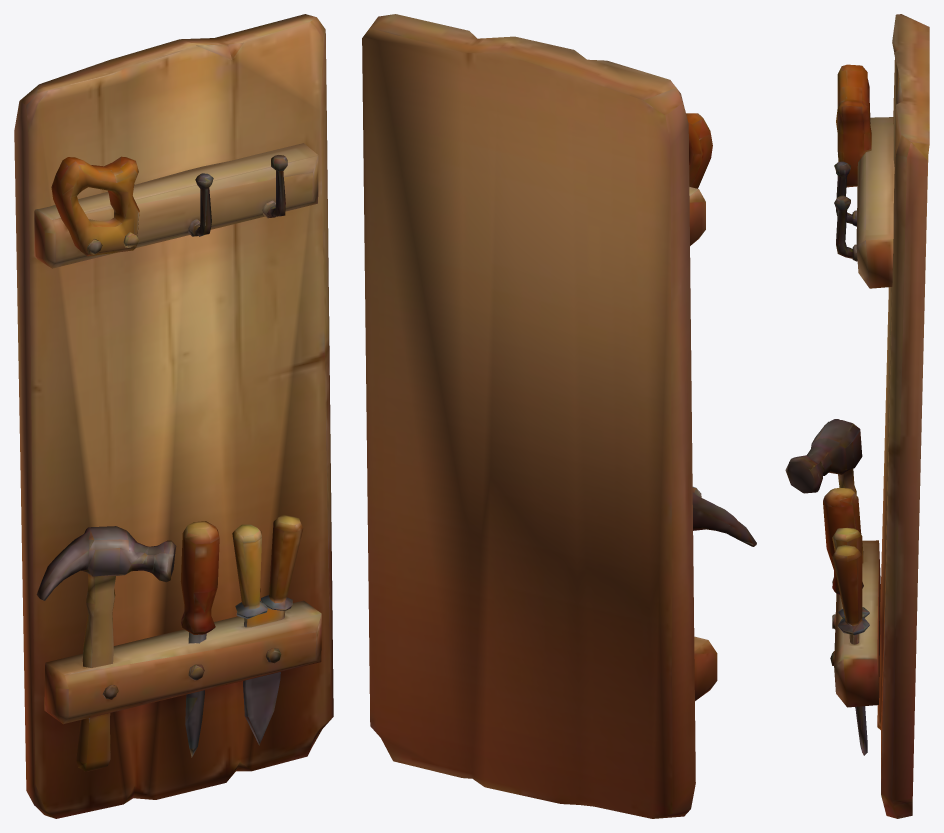
The model's file is wyn_furn_tool_rack.glb.
3 views of the same model, side by side, from view 1: azimuth 30°, elevation 25°; view 2: azimuth 150°, elevation 25°; view 3: azimuth 270°, elevation 25° (orthographic). The views are drawn at different scales.
Visible parts, largest first — view 1: tripo_node_11494d8c-9296-4774-b6ea-6039ffd05cb4; view 2: tripo_node_11494d8c-9296-4774-b6ea-6039ffd05cb4; view 3: tripo_node_11494d8c-9296-4774-b6ea-6039ffd05cb4.
Part boxes in pixels (left/top/right/bottom): tripo_node_11494d8c-9296-4774-b6ea-6039ffd05cb4: left=14, top=14, right=333, bottom=818; tripo_node_11494d8c-9296-4774-b6ea-6039ffd05cb4: left=362, top=14, right=756, bottom=818; tripo_node_11494d8c-9296-4774-b6ea-6039ffd05cb4: left=785, top=14, right=929, bottom=818.
Size of the model in its own units: 0.5633 by 1.2 by 0.2259.
Materials: 1 (1 with a texture image).
